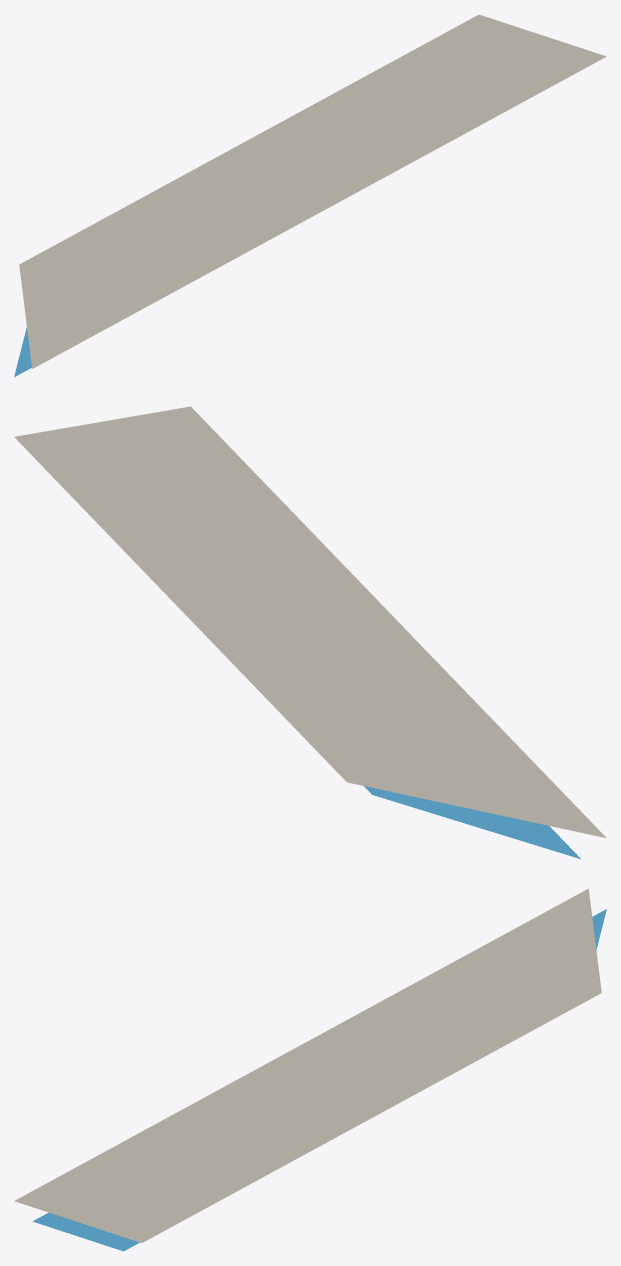
3 renders of one model, top to bottom at view 1: azimuth 90°, elevation 25°; view 2: azimuth 150°, elevation 25°; view 3: azimuth 270°, elevation 25°, orthographic. The views are drawn at different scales.
Parts seen in each view (by area): view 1: estructura_terreno; view 2: estructura_terreno, estructura_agua; view 3: estructura_terreno, estructura_agua.
Part boxes in pixels (<box>): estructura_terreno: <box>19,14,606,368</box>; estructura_terreno: <box>14,406,606,838</box>; estructura_agua: <box>364,786,580,859</box>; estructura_terreno: <box>14,888,601,1242</box>; estructura_agua: <box>32,909,606,1251</box>.
Bounding box in the file's own units: 21.75 × 0.41 × 15.36.
